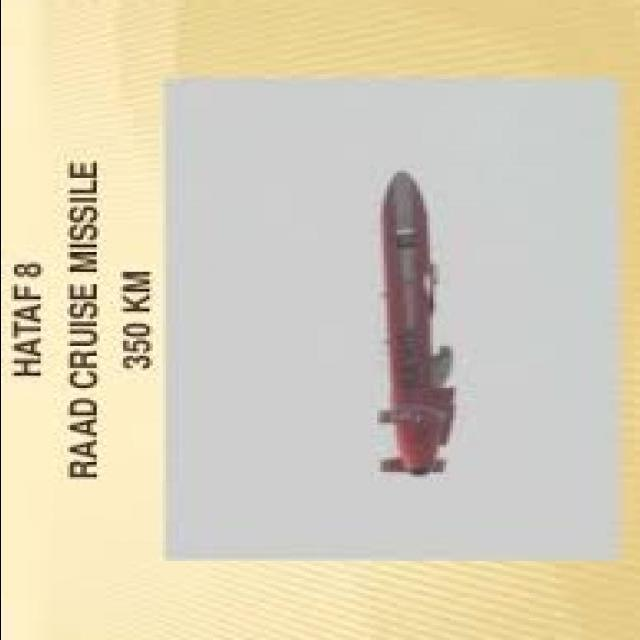Missile: (375, 163, 467, 495)
